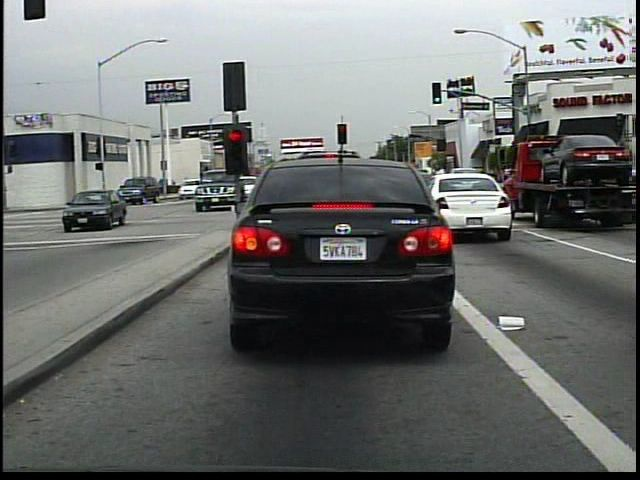person: (182, 175, 203, 200)
